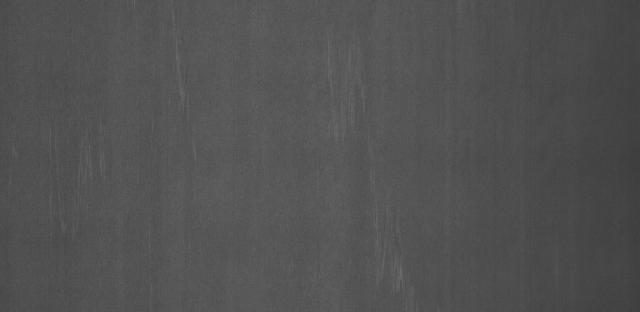silk_spot: (315, 28, 390, 151), (364, 203, 429, 296), (156, 31, 208, 110)
